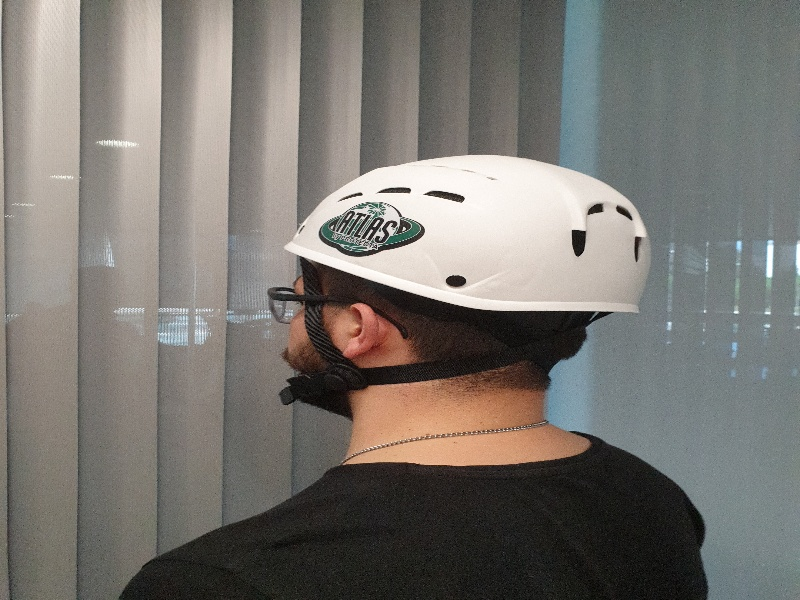Baret: (282, 153, 653, 309)
